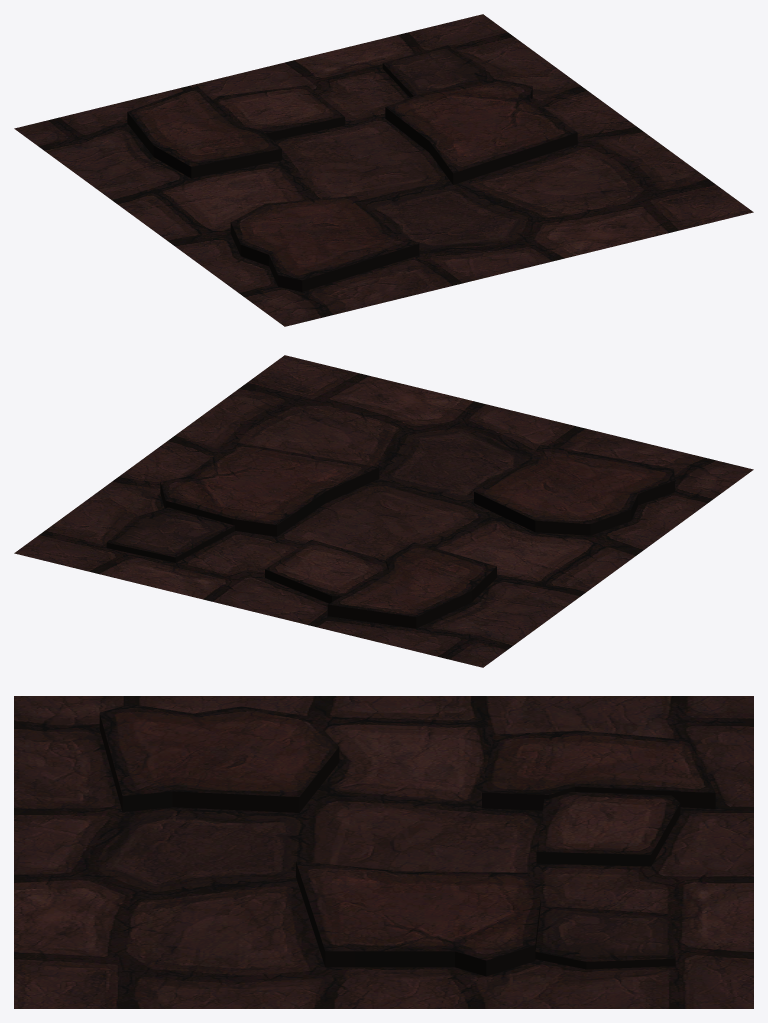
File: lava_floor_blank_05.fbx
3 renders of one model, top to bottom at view 1: azimuth 30°, elevation 25°; view 2: azimuth 150°, elevation 25°; view 3: azimuth 270°, elevation 25°, orthographic. The views are drawn at different scales.
Visible parts, largest first — view 1: lava_tileset/lava_floor01_shadow; view 2: lava_tileset/lava_floor01_shadow; view 3: lava_tileset/lava_floor01_shadow.
Boxes of the visible parts, <box> form: lava_tileset/lava_floor01_shadow: <box>14,14,753,326</box>; lava_tileset/lava_floor01_shadow: <box>14,355,753,667</box>; lava_tileset/lava_floor01_shadow: <box>14,696,753,1008</box>.
Size of the model in its own units: 4 by 0.095 by 4.
